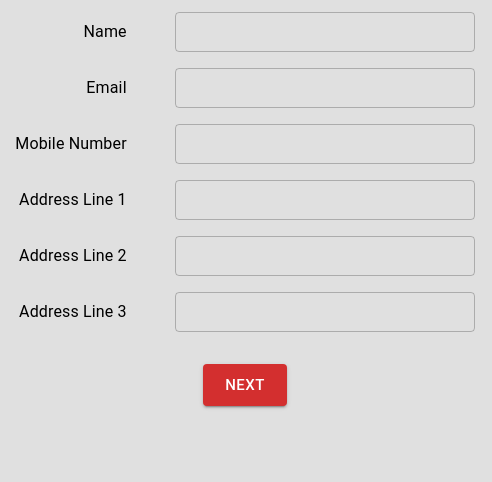
Test: Personal info › should show error message on API failure
This screenshot has width=492, height=482.
Type "Rishabh" into the field next to "Name".
click(325, 32); type("Rishabh")  # box x1=175 y1=12 x2=475 y2=52
Type "rishabh@example.co" into the field next to "Email".
click(325, 88); type("rishabh@example.co")  # box x1=175 y1=68 x2=475 y2=108
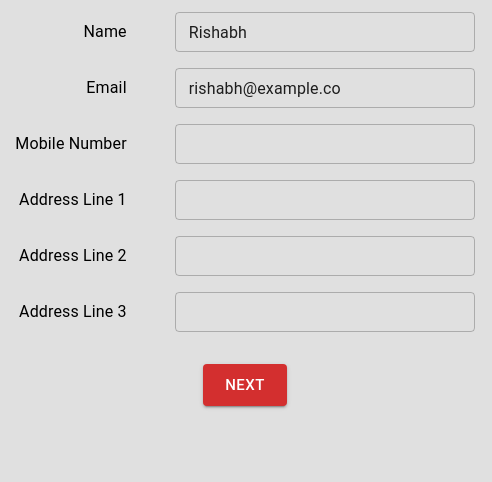
Type "1234567890" into the field next to "Mobile Number".
click(325, 144); type("1234567890")  # box x1=175 y1=124 x2=475 y2=164
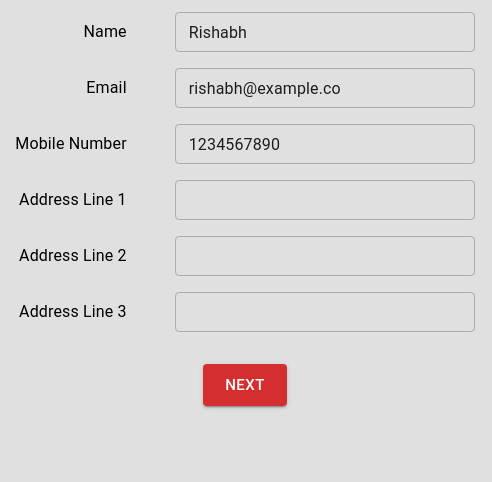
Type "Address Line 1" into the field next to "Address Line 1".
click(325, 200); type("Address Line 1")  # box x1=175 y1=180 x2=475 y2=220
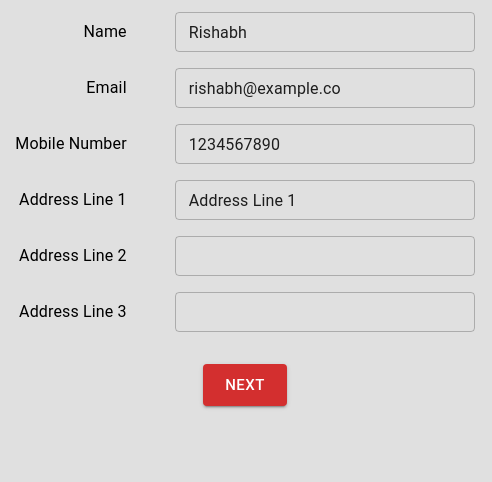
Type "Address Line 2" into the field next to "Address Line 2".
click(325, 256); type("Address Line 2")  # box x1=175 y1=236 x2=475 y2=276
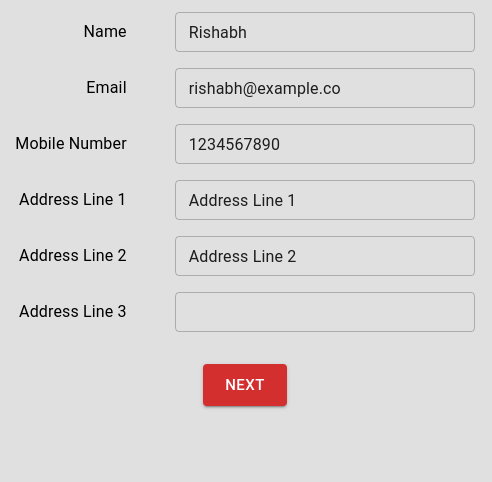
Type "Address Line 3" into the field next to "Address Line 3".
click(325, 312); type("Address Line 3")  # box x1=175 y1=292 x2=475 y2=332
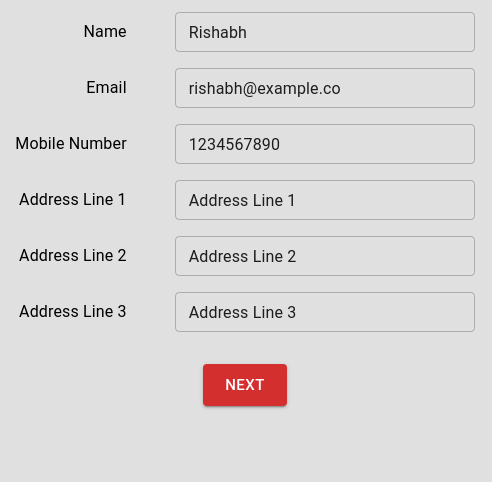
Click the button with test id "personal-info-next-button".
click(245, 385)  # box x1=203 y1=364 x2=287 y2=406
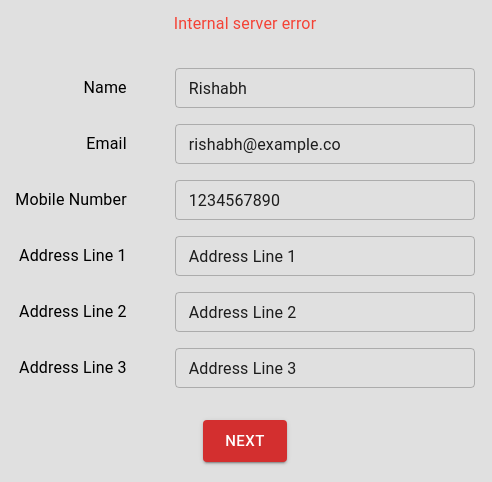
Check: the text "Internal server error" is shown, box x1=174 y1=12 x2=316 y2=36
